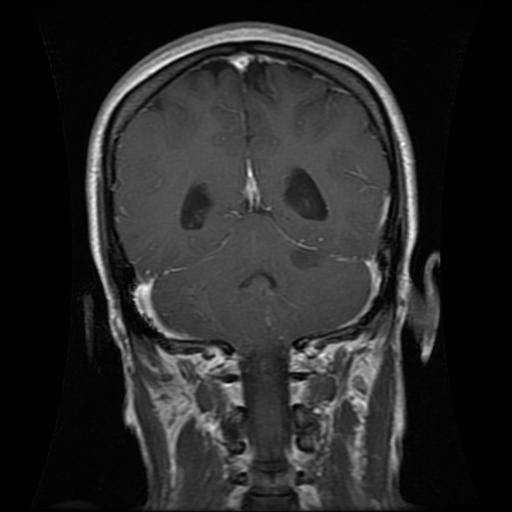Gliomia_tumour: (286, 241, 327, 269)
